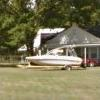Boat: (22, 48, 87, 79)
